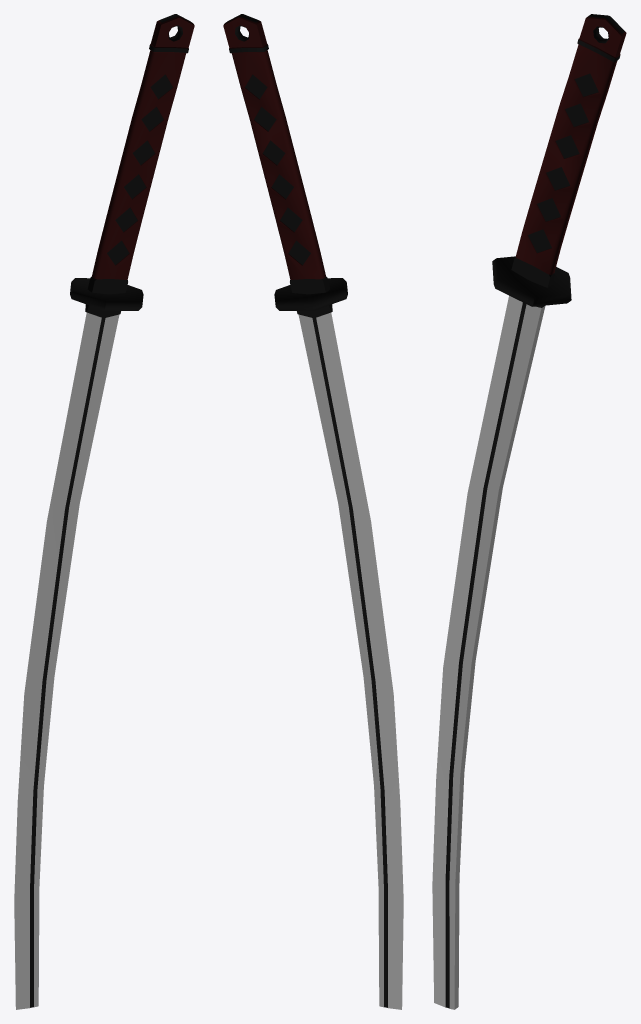
Rendered from katana_basic.obj.
The picture shows the model from 3 angles, left to right: view 1: azimuth 30°, elevation 25°; view 2: azimuth 150°, elevation 25°; view 3: azimuth 330°, elevation 25°; orthographic projection. The views are drawn at different scales.
Parts seen in each view (by area): view 1: 2, 1, 0; view 2: 2, 1, 0; view 3: 2, 0, 1.
Boxes of the visible parts, box(x1,y1,x2,y2) form: 2: box(14, 312, 119, 1009); 1: box(92, 16, 194, 279); 0: box(30, 14, 192, 1007); 2: box(298, 312, 403, 1009); 1: box(223, 16, 325, 279); 0: box(225, 14, 387, 1007); 2: box(432, 295, 545, 1009); 0: box(445, 14, 624, 1008); 1: box(516, 16, 626, 274).
Bounding box in the file's own units: 0.203 × 1.04 × 0.0673.
